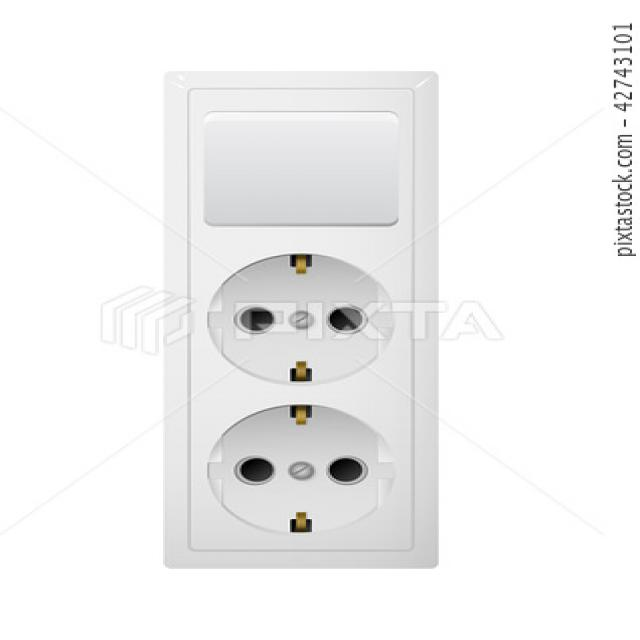typeb: (122, 58, 491, 591)
